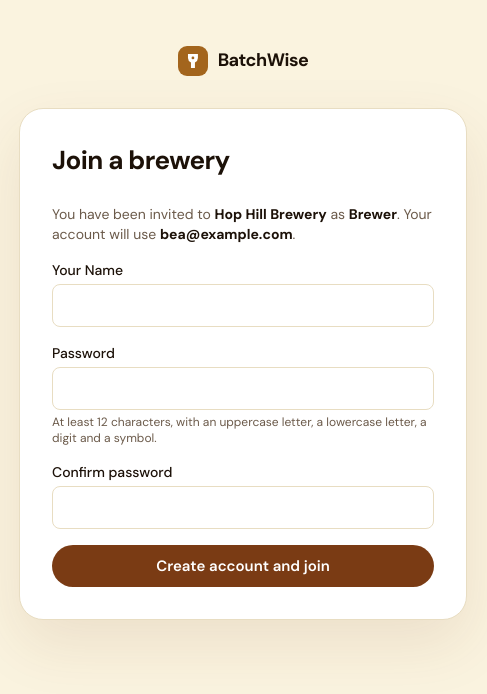
AcceptInvitationPage › checks that the passwords match
Expected: the text "Hop Hill Brewery" is shown, [214,205,327,223]
Type "Bea" into the field labelled "Your Name" at (243, 305), box [52,284,434,327]
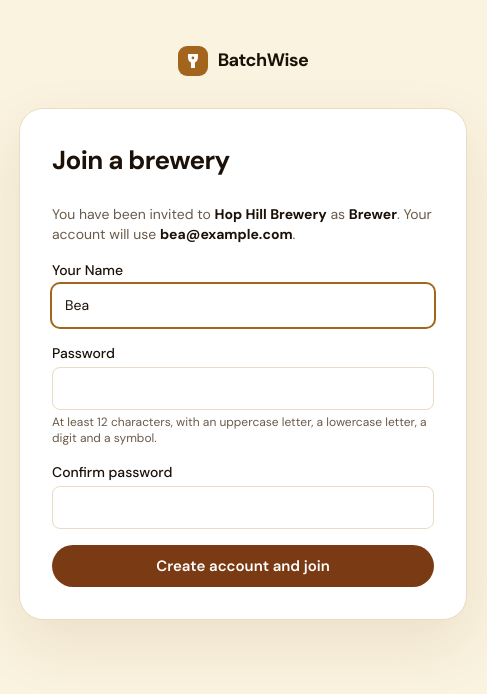
Type "Sup3rSecret!pw" into the password field labelled "Password" at (243, 388), box [52,367,434,410]
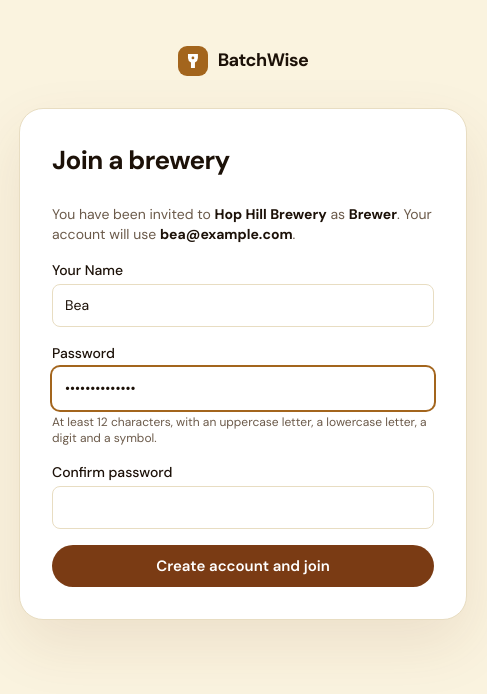
Type "Different!pw12" into the password field labelled "Confirm password" at (243, 507), box [52,486,434,529]
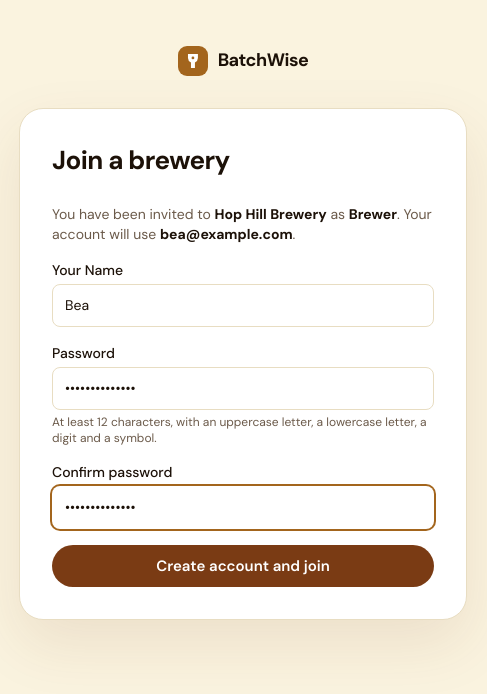
Click the button "Create account and join" at (243, 566), box [52,545,434,587]
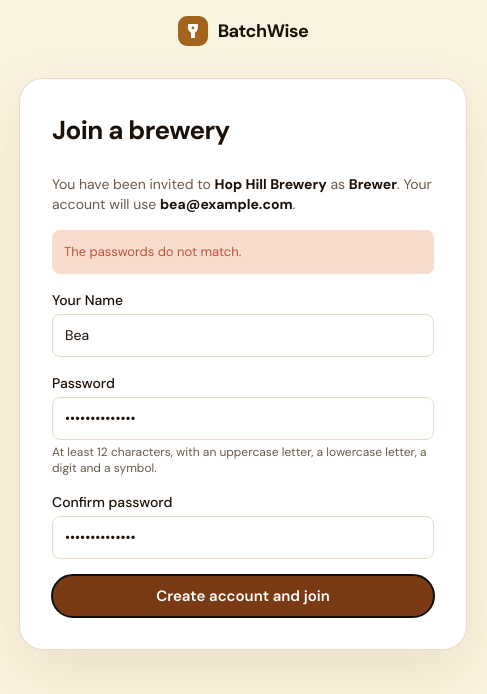
Expected: the message reads "The passwords do not match.", [64,243,241,260]
